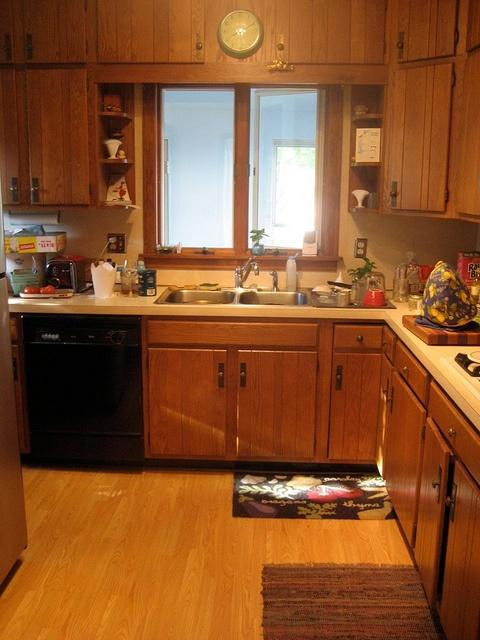Lemari: (379, 0, 479, 226), (0, 0, 101, 212)
